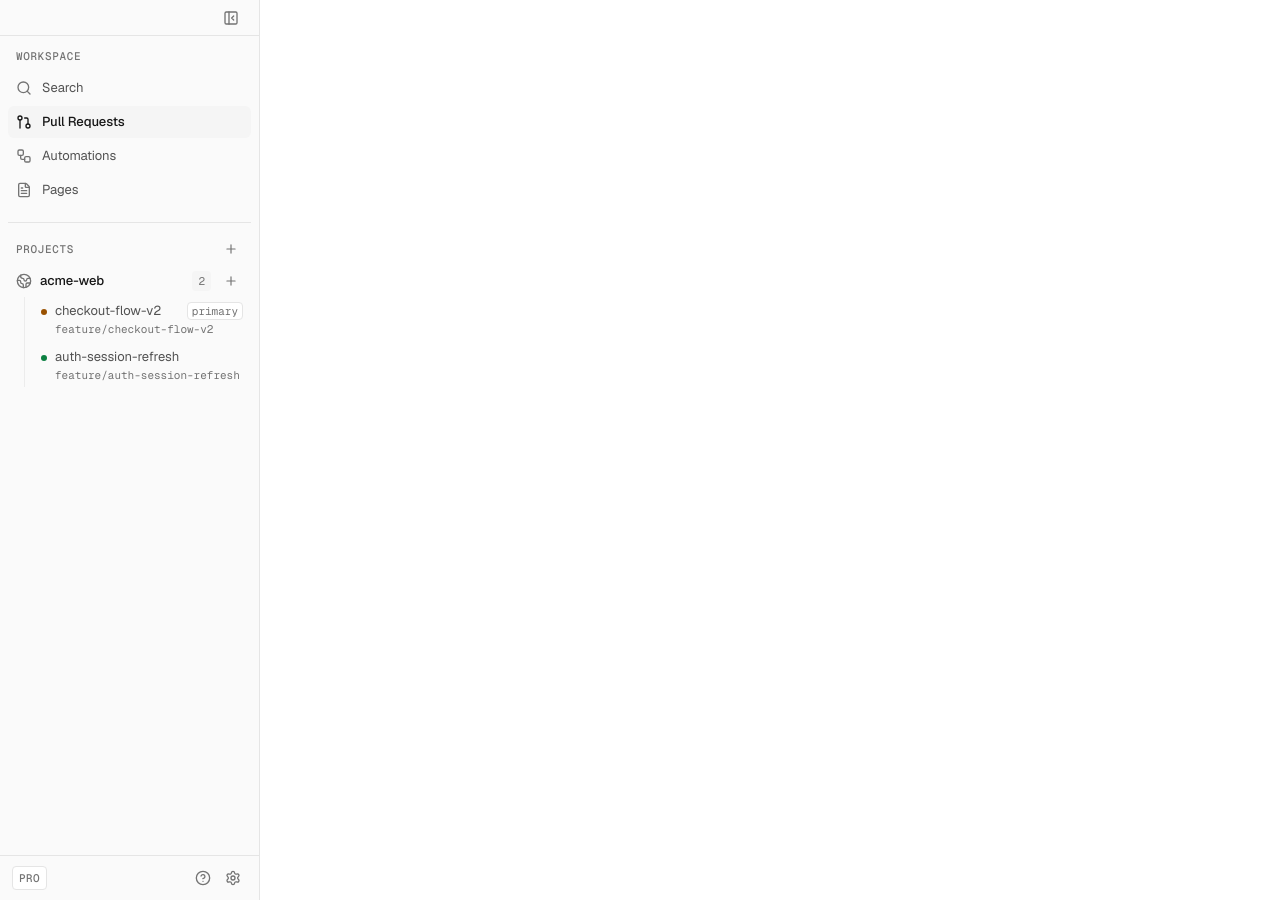
Test case: Workspace sidebar › opens the new worktree dialog from a project row
The width and height of the screenshot is (1280, 900).
Click the button named "New worktree in acme-web": (231, 281) [219,269,243,293]
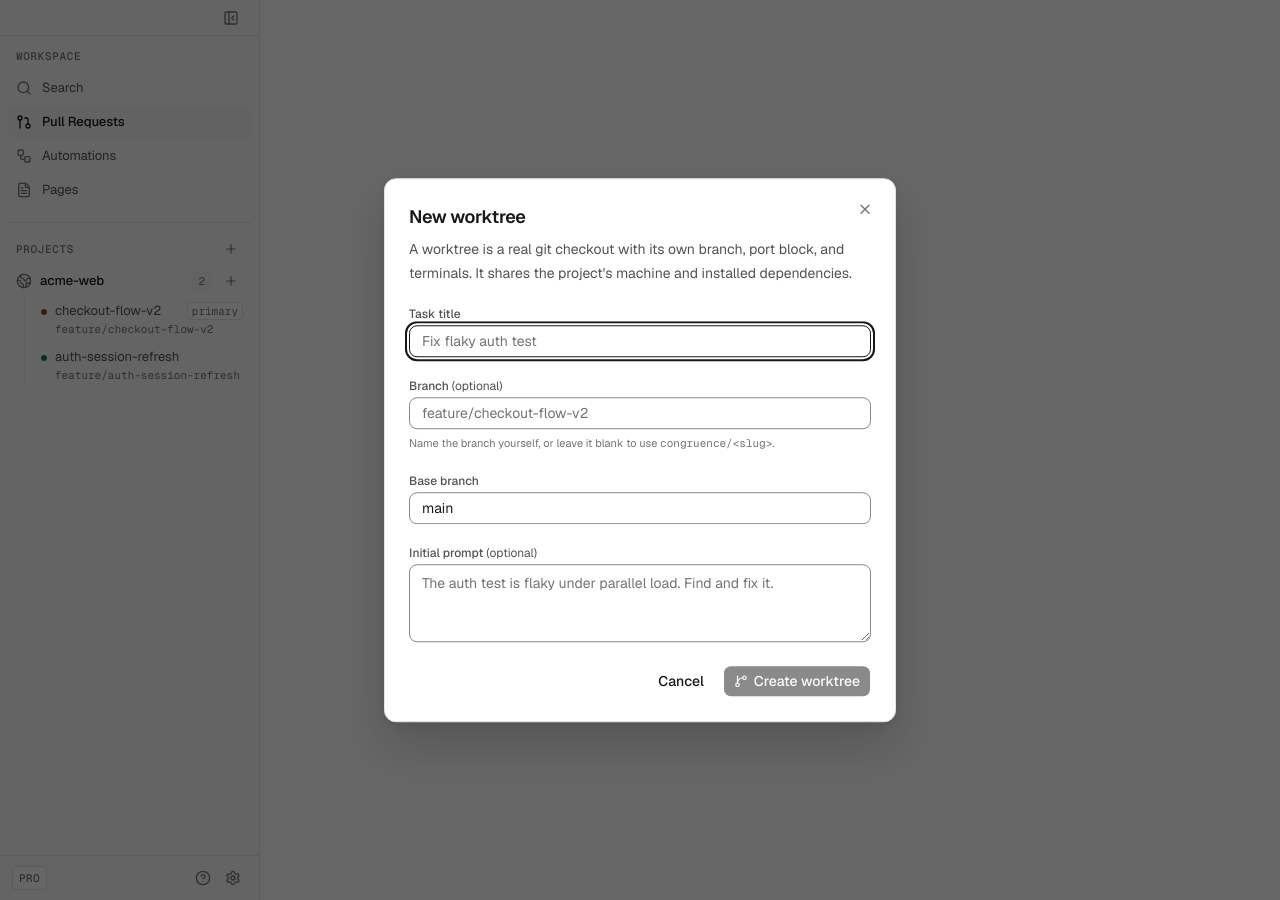
Check: the dialog is shown, box [384,178,896,722]
Check: the heading "New worktree" is shown, box [409,205,526,228]
